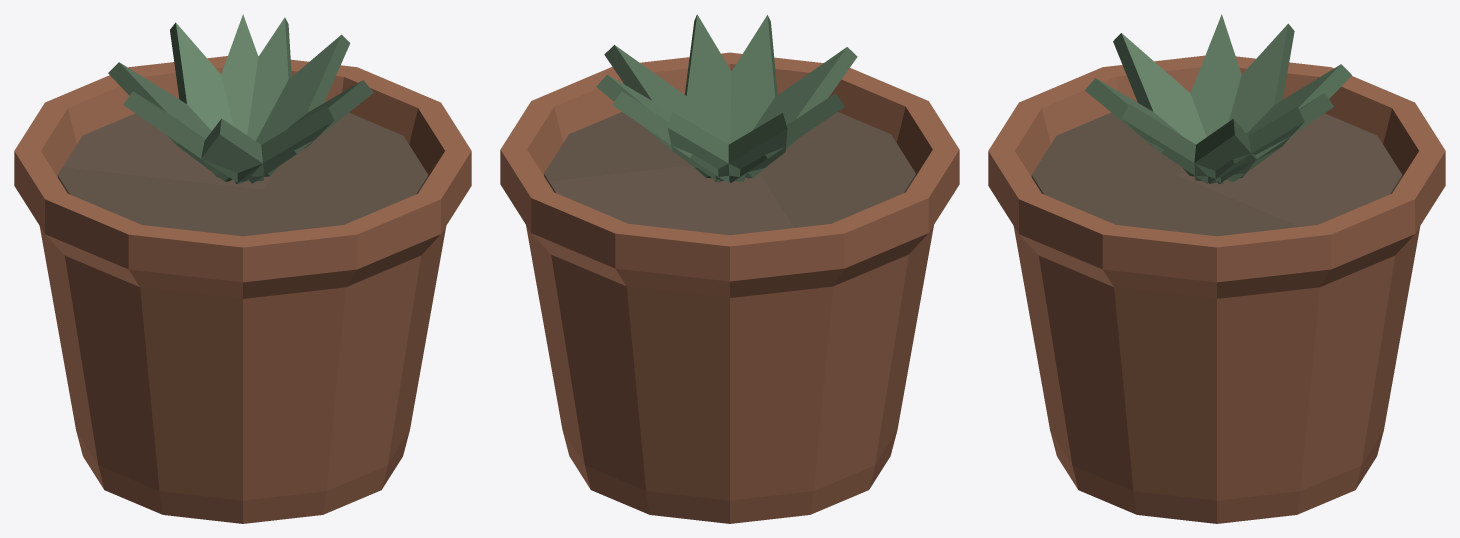
The model's file is haworthia.glb.
3 renders of one model, left to right at view 1: azimuth 30°, elevation 25°; view 2: azimuth 150°, elevation 25°; view 3: azimuth 270°, elevation 25°, orthographic.
Parts seen in each view (by area): view 1: haworthia/review-terra-vessel, haworthia/review-rooted-soil, haworthia/leaf-006, haworthia/leaf-004, haworthia/leaf-001, haworthia/leaf-009, haworthia/leaf-005, haworthia/leaf-007, haworthia/leaf-008, haworthia/leaf-002, haworthia/leaf-003; view 2: haworthia/review-terra-vessel, haworthia/review-rooted-soil, haworthia/leaf-003, haworthia/leaf-008, haworthia/leaf-005, haworthia/leaf-006, haworthia/leaf-007, haworthia/leaf-004, haworthia/leaf-009, haworthia/leaf-002, haworthia/leaf-001; view 3: haworthia/review-terra-vessel, haworthia/review-rooted-soil, haworthia/leaf-005, haworthia/leaf-002, haworthia/leaf-007, haworthia/leaf-006, haworthia/leaf-004, haworthia/leaf-003, haworthia/leaf-001, haworthia/leaf-008, haworthia/leaf-009.
Boxes of the visible parts, box(x1,y1,x2,y2) form: haworthia/review-terra-vessel: box(14, 56, 471, 523); haworthia/review-rooted-soil: box(57, 113, 428, 236); haworthia/leaf-006: box(256, 34, 350, 176); haworthia/leaf-004: box(170, 22, 233, 130); haworthia/leaf-001: box(247, 17, 291, 140); haworthia/leaf-009: box(221, 14, 258, 135); haworthia/leaf-005: box(201, 118, 264, 181); haworthia/leaf-007: box(108, 62, 232, 181); haworthia/leaf-008: box(235, 105, 334, 183); haworthia/leaf-002: box(123, 91, 241, 184); haworthia/leaf-003: box(248, 80, 373, 183); haworthia/review-terra-vessel: box(500, 52, 959, 523); haworthia/review-rooted-soil: box(544, 112, 915, 235); haworthia/leaf-003: box(685, 14, 731, 144); haworthia/leaf-008: box(730, 15, 777, 143); haworthia/leaf-005: box(745, 47, 857, 178); haworthia/leaf-006: box(604, 45, 711, 177); haworthia/leaf-007: box(714, 113, 787, 181); haworthia/leaf-004: box(667, 112, 746, 181); haworthia/leaf-009: box(612, 91, 729, 182); haworthia/leaf-002: box(729, 93, 844, 182); haworthia/leaf-001: box(596, 74, 720, 182); haworthia/review-terra-vessel: box(988, 55, 1445, 523); haworthia/review-rooted-soil: box(1031, 112, 1402, 236); haworthia/leaf-005: box(1113, 33, 1206, 176); haworthia/leaf-002: box(1190, 14, 1241, 136); haworthia/leaf-007: box(1229, 23, 1294, 133); haworthia/leaf-006: box(1194, 119, 1256, 180); haworthia/leaf-004: box(1227, 64, 1351, 181); haworthia/leaf-003: box(1121, 104, 1223, 184); haworthia/leaf-001: box(1208, 107, 1304, 183); haworthia/leaf-008: box(1085, 78, 1208, 183); haworthia/leaf-009: box(1216, 93, 1333, 183).
Size of the model in its own units: 0.19 by 0.1786 by 0.19.
Materials: 3 (3 with a texture image).
